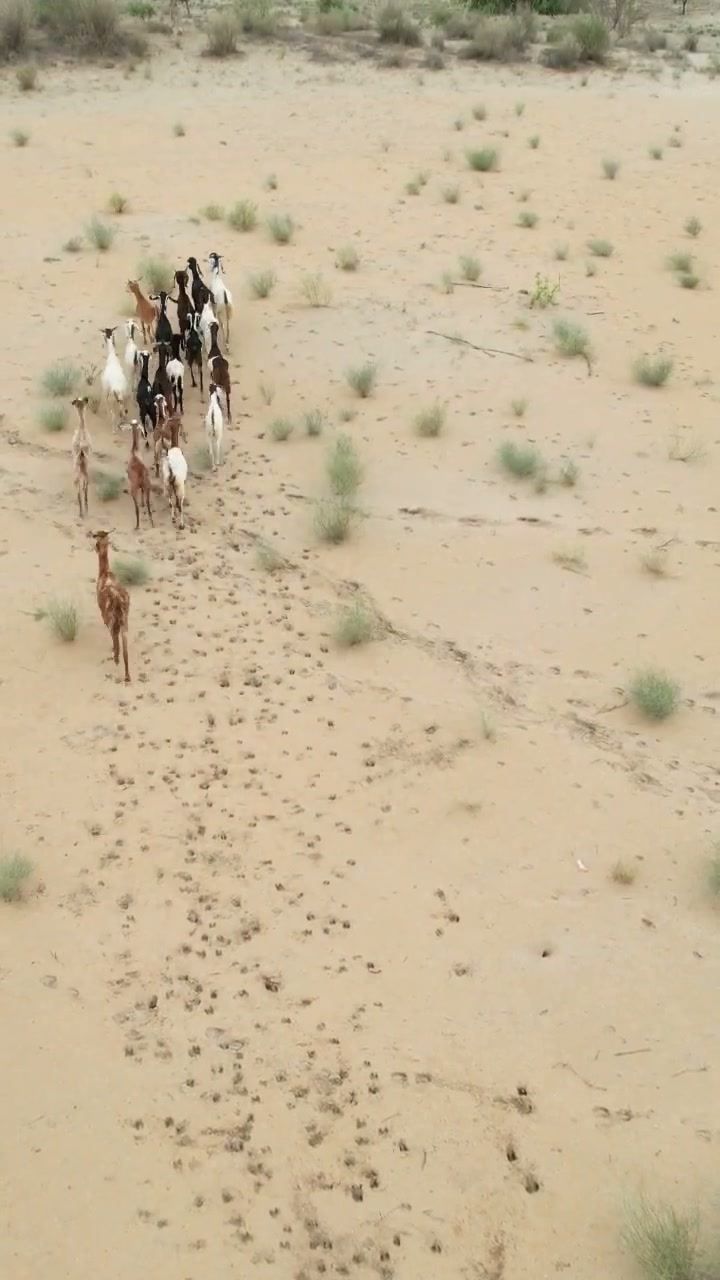animal_footprint: (6, 480, 412, 1274)
